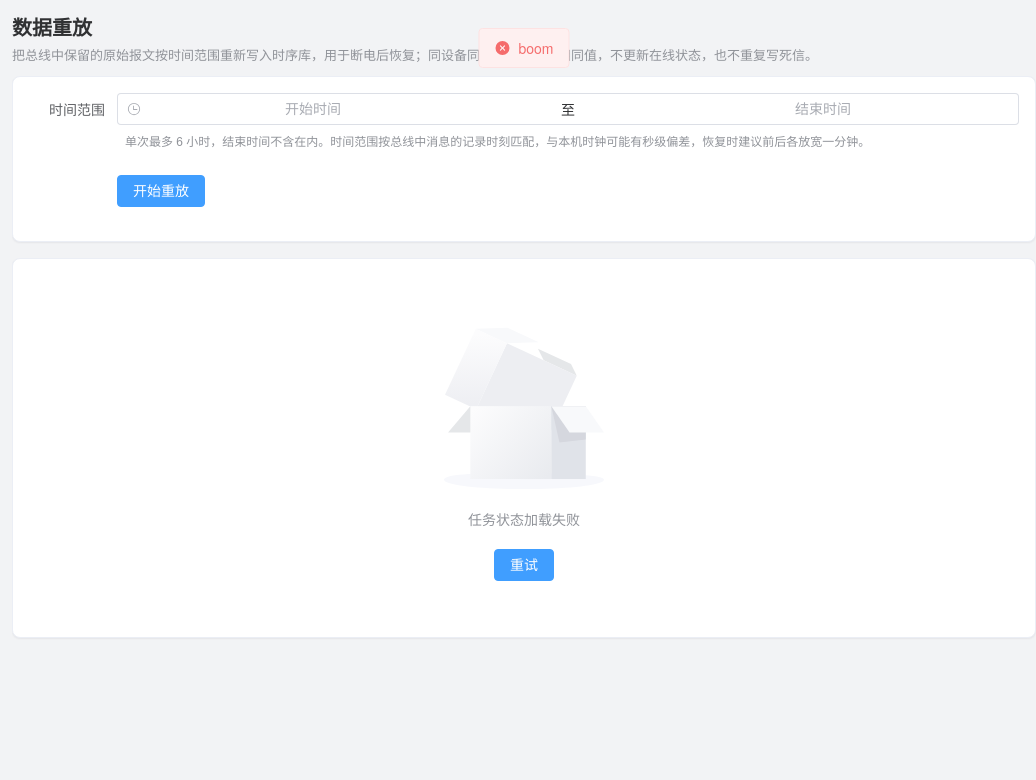
Test: TelemetryReplayView › shows a retry affordance instead of the empty state when the first status load fails
Expected: the element with test id "load-failed" is shown, top-left (444, 315), bottom-right (604, 581)
Step 1. Click the button "重试" → [524, 565], box top-left (494, 549), bottom-right (554, 581)
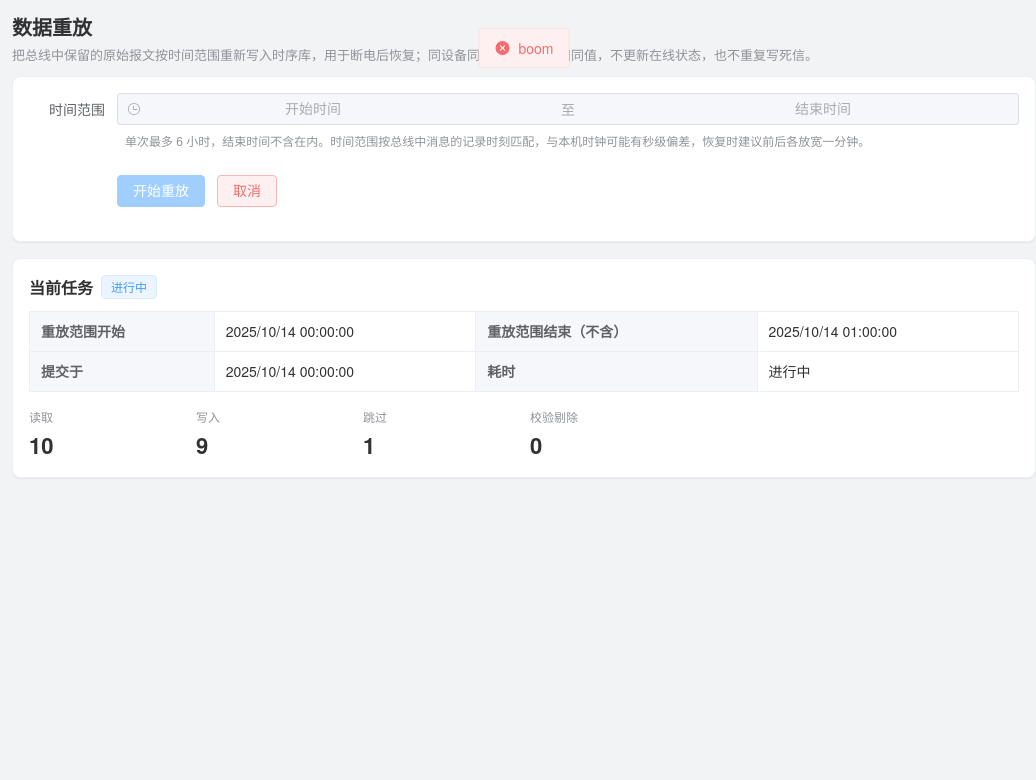
Expected: the button with test id "cancel" is shown, top-left (217, 175), bottom-right (277, 207)
